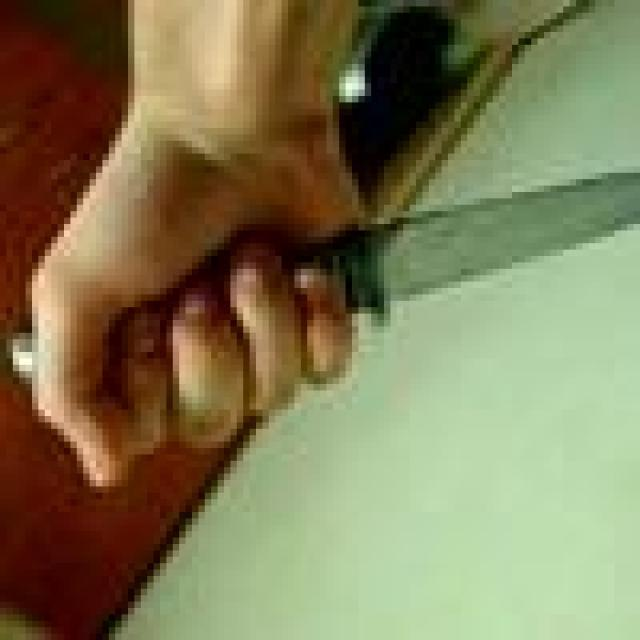knife: (13, 122, 640, 397)
